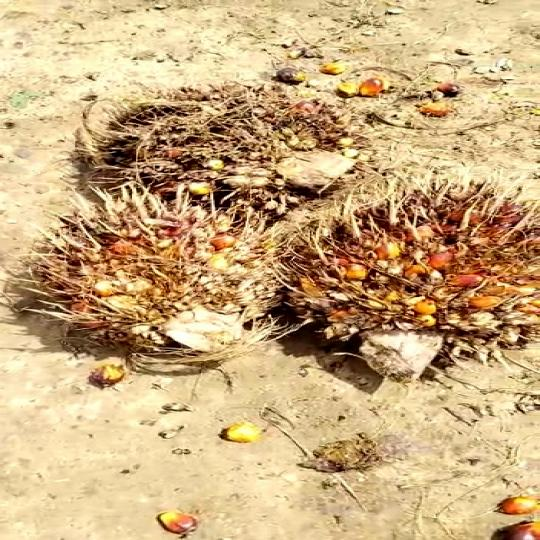terlalu masak: (264, 166, 540, 386), (11, 199, 284, 362), (65, 85, 380, 207)
